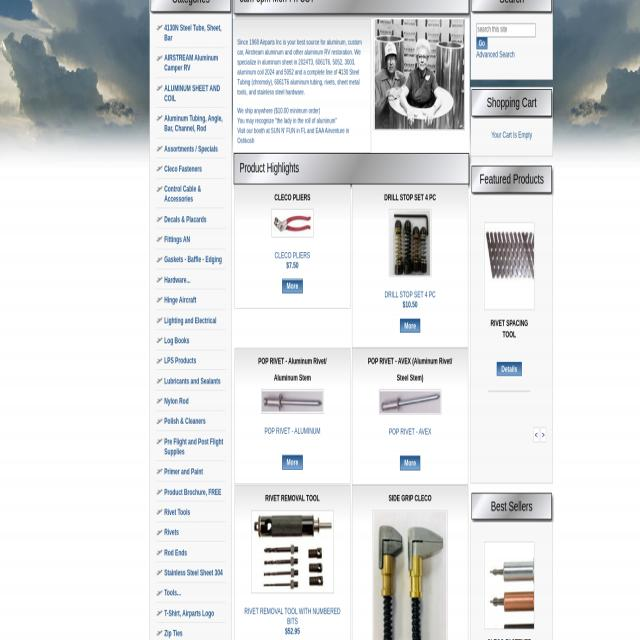button: (374, 18, 464, 130), (373, 511, 447, 640), (251, 510, 334, 594), (484, 542, 534, 630), (389, 209, 431, 277), (262, 389, 324, 414), (378, 390, 442, 414), (272, 209, 314, 237), (496, 361, 522, 376), (282, 279, 303, 293), (282, 455, 303, 469), (400, 319, 420, 332), (400, 456, 420, 469), (477, 37, 488, 49), (533, 427, 539, 443), (540, 427, 546, 443)
field: (476, 23, 536, 37)
